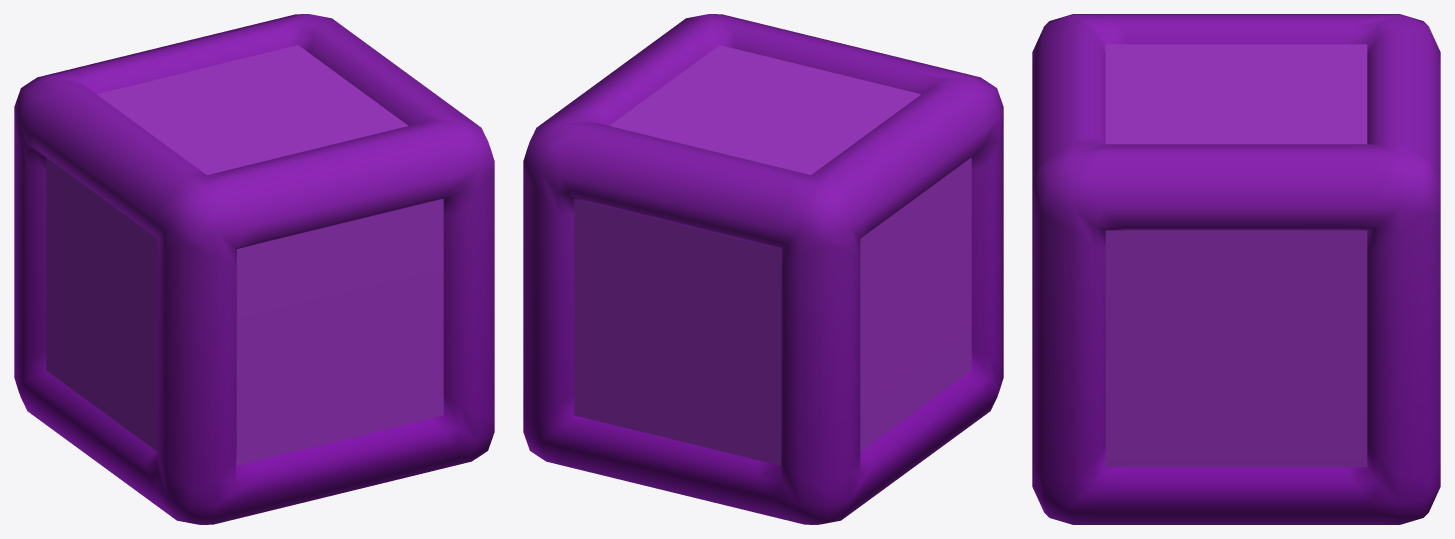
The model's file is Block_Purple.fbx.
3 views of the same model, side by side, from view 1: azimuth 30°, elevation 25°; view 2: azimuth 150°, elevation 25°; view 3: azimuth 270°, elevation 25° (orthographic). The views are drawn at different scales.
Visible parts, largest first — view 1: Block_Purple; view 2: Block_Purple; view 3: Block_Purple.
Part boxes in pixels (x1,y1,x2,y2): Block_Purple: (14, 14, 494, 524); Block_Purple: (523, 14, 1003, 524); Block_Purple: (1032, 14, 1440, 524).
Size of the model in its own units: 100 by 100 by 100.
